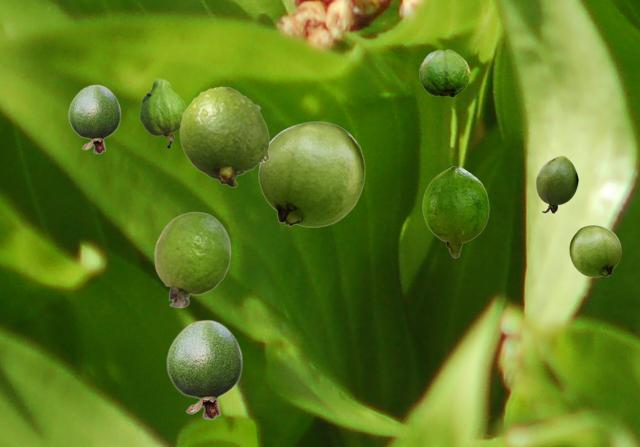guava: (258, 121, 364, 226), (179, 86, 268, 186), (166, 319, 242, 419), (154, 211, 230, 307), (422, 166, 488, 257), (68, 84, 120, 153), (139, 78, 185, 147), (569, 225, 620, 276), (419, 49, 469, 96), (536, 156, 577, 212)
